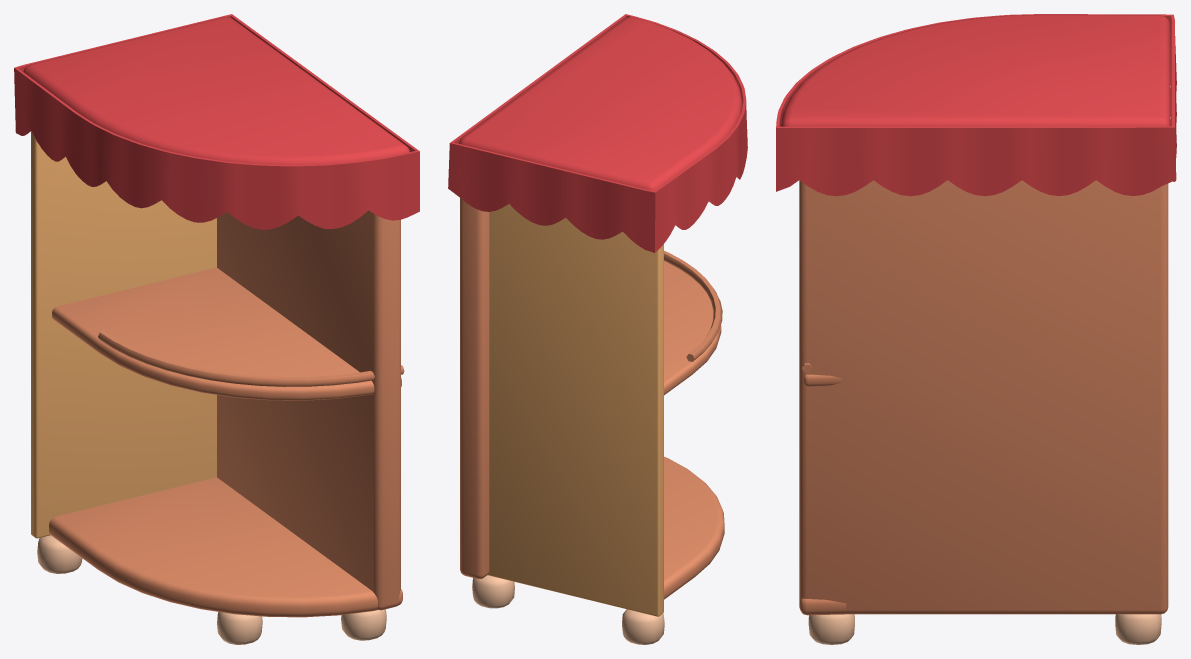
The model's file is armario_cozinha_ponta_curva_campestre.glb.
3 renders of one model, left to right at view 1: azimuth 30°, elevation 25°; view 2: azimuth 150°, elevation 25°; view 3: azimuth 270°, elevation 25°, orthographic. The views are drawn at different scales.
Visible parts, largest first — view 1: armario_cozinha_ponta_curva_campestre; view 2: armario_cozinha_ponta_curva_campestre; view 3: armario_cozinha_ponta_curva_campestre.
Part boxes in pixels (x1,y1,x2,y2): armario_cozinha_ponta_curva_campestre: [14, 14, 419, 644]; armario_cozinha_ponta_curva_campestre: [448, 14, 747, 644]; armario_cozinha_ponta_curva_campestre: [776, 14, 1176, 644].
Bounding box in the file's own units: 0.4192 × 0.9 × 0.6145.
Materials: 1 (1 with a texture image).
